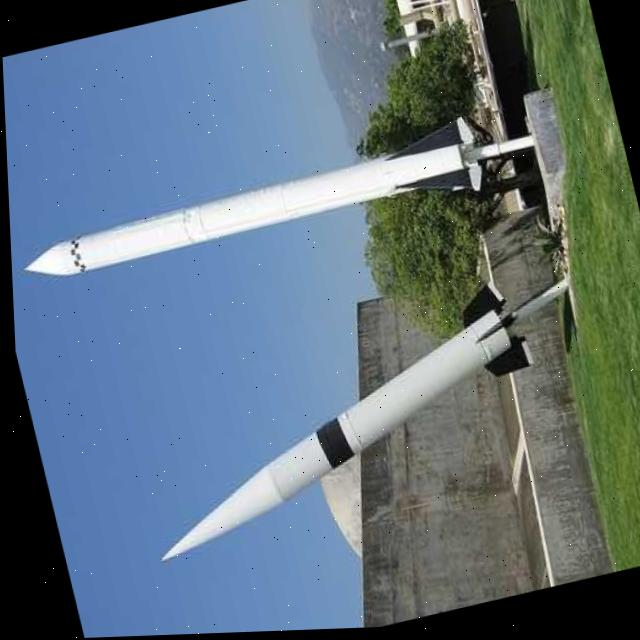missile: (108, 275, 562, 571), (8, 114, 500, 296)
